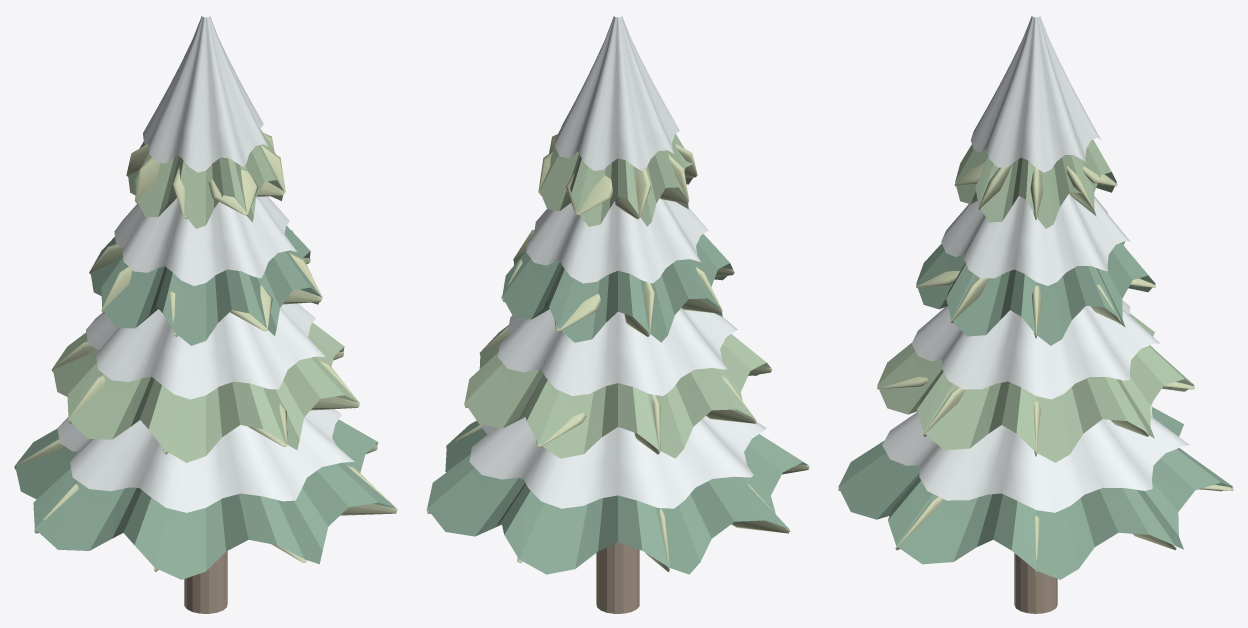
File: library_tree_snow_pine.glb
3 views of the same model, side by side, from view 1: azimuth 30°, elevation 25°; view 2: azimuth 150°, elevation 25°; view 3: azimuth 270°, elevation 25° (orthographic).
Visible parts, largest first — view 1: decor_d4e1e4_matte, decor_466d54_matte, decor_709568_matte, decor_9bab72_matte, decor_806751_matte; view 2: decor_d4e1e4_matte, decor_466d54_matte, decor_709568_matte, decor_9bab72_matte, decor_806751_matte; view 3: decor_d4e1e4_matte, decor_466d54_matte, decor_709568_matte, decor_9bab72_matte, decor_806751_matte.
Part boxes in pixels (x1=…): decor_d4e1e4_matte: x1=57, y1=16, x2=354, y2=512; decor_466d54_matte: x1=15, y1=225, x2=396, y2=579; decor_709568_matte: x1=53, y1=130, x2=358, y2=462; decor_9bab72_matte: x1=14, y1=132, x2=397, y2=572; decor_806751_matte: x1=184, y1=551, x2=227, y2=613; decor_d4e1e4_matte: x1=469, y1=16, x2=766, y2=508; decor_466d54_matte: x1=427, y1=234, x2=808, y2=574; decor_709568_matte: x1=464, y1=134, x2=770, y2=458; decor_9bab72_matte: x1=426, y1=134, x2=809, y2=572; decor_806751_matte: x1=596, y1=542, x2=639, y2=613; decor_d4e1e4_matte: x1=882, y1=16, x2=1189, y2=512; decor_466d54_matte: x1=838, y1=241, x2=1232, y2=579; decor_709568_matte: x1=877, y1=139, x2=1194, y2=462; decor_9bab72_matte: x1=838, y1=161, x2=1233, y2=574; decor_806751_matte: x1=1014, y1=553, x2=1057, y2=613.
Size of the model in its own units: 2.55 by 4.18 by 2.54.
